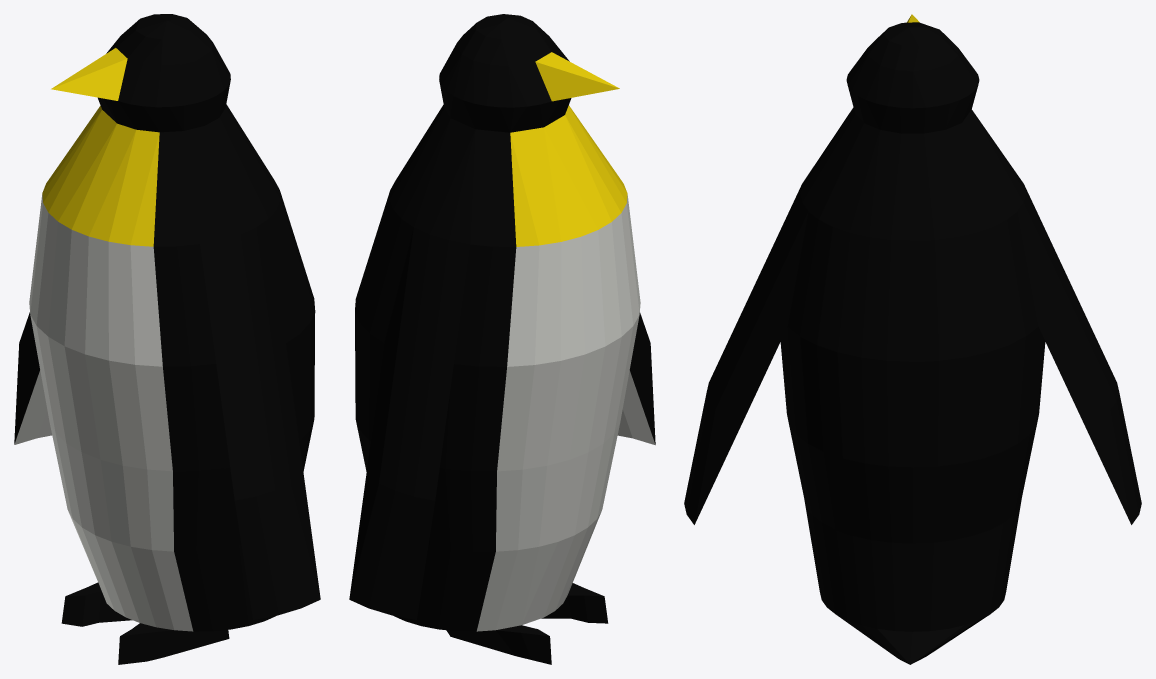
The model's file is bigPenguin.glb.
3 renders of one model, left to right at view 1: azimuth 30°, elevation 25°; view 2: azimuth 150°, elevation 25°; view 3: azimuth 270°, elevation 25°, orthographic. The views are drawn at different scales.
Parts seen in each view (by area): view 1: Cylinder; view 2: Cylinder; view 3: Cylinder.
Part boxes in pixels (left/top/right/bottom): Cylinder: left=14, top=14, right=320, bottom=664; Cylinder: left=349, top=14, right=655, bottom=664; Cylinder: left=684, top=14, right=1141, bottom=664.
Bounding box in the file's own units: 1.23 × 2.73 × 1.93.
